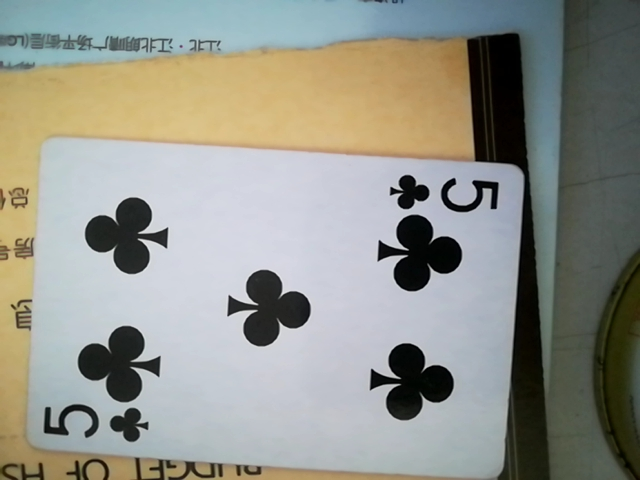mh 5: (18, 140, 530, 473)
